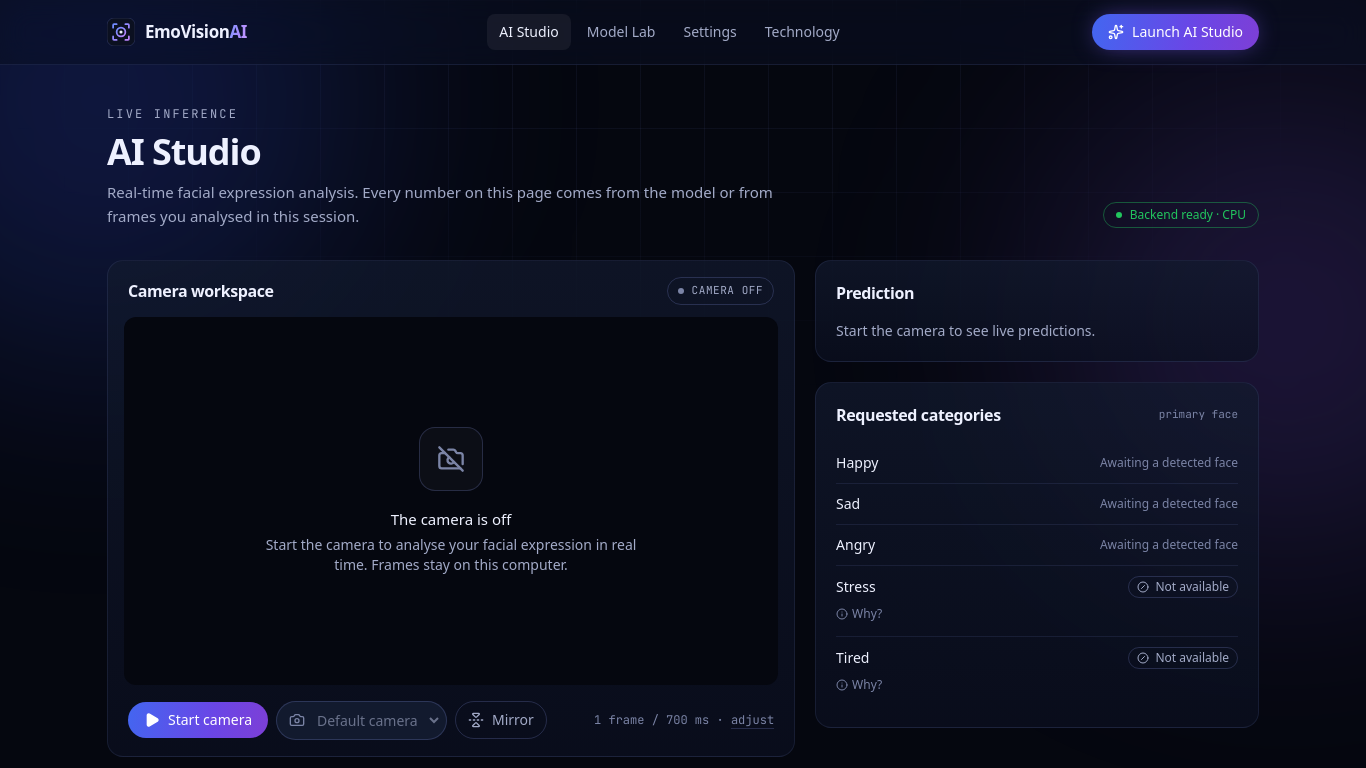
Scenario: AI Studio › reports an unsupported browser when getUserMedia is missing
Click the button "Start camera".
click(198, 720)  # box left=128, top=702, right=268, bottom=738
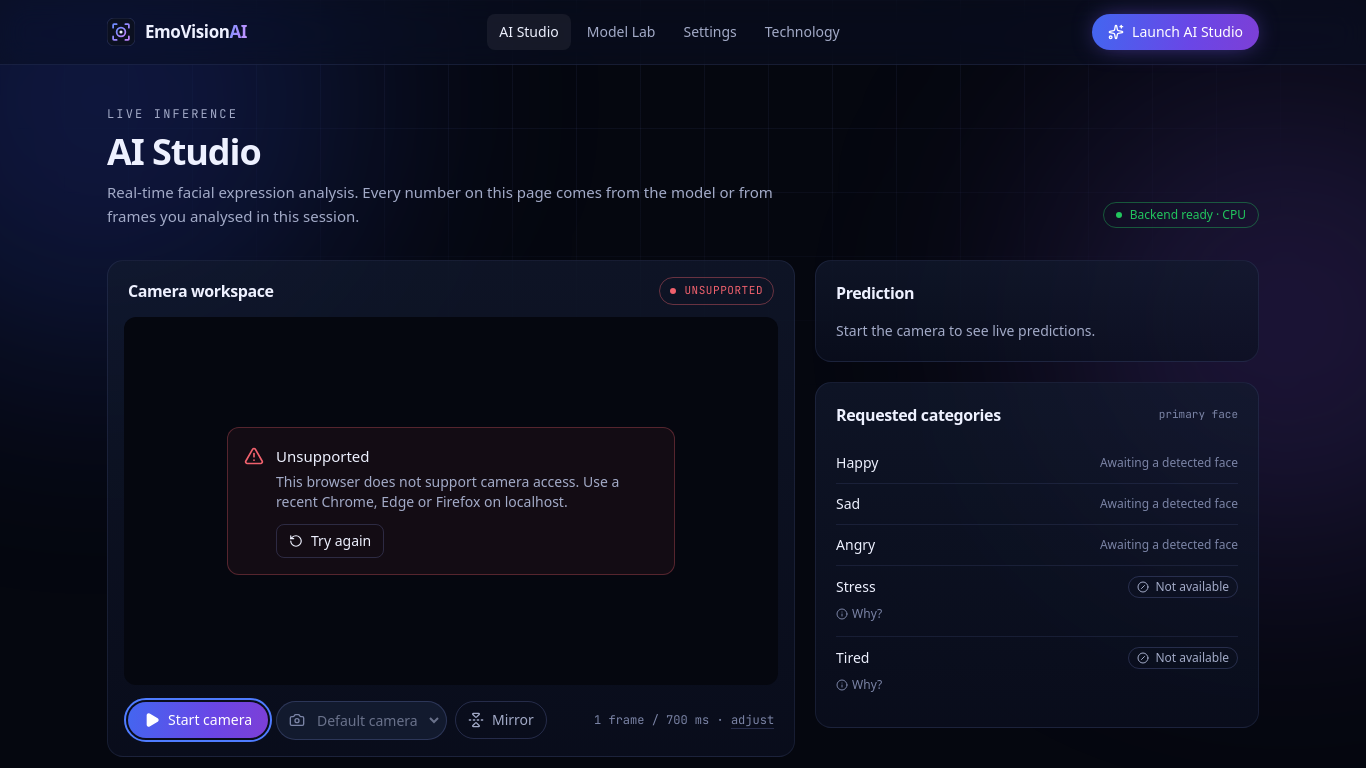
Result: the text "does not support camera access" is shown at left=276, top=472, right=619, bottom=511
